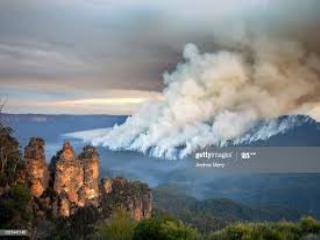smoke: (107, 42, 314, 156)
